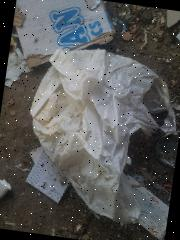general: (114, 172, 172, 240)
plastic: (16, 40, 180, 229)
